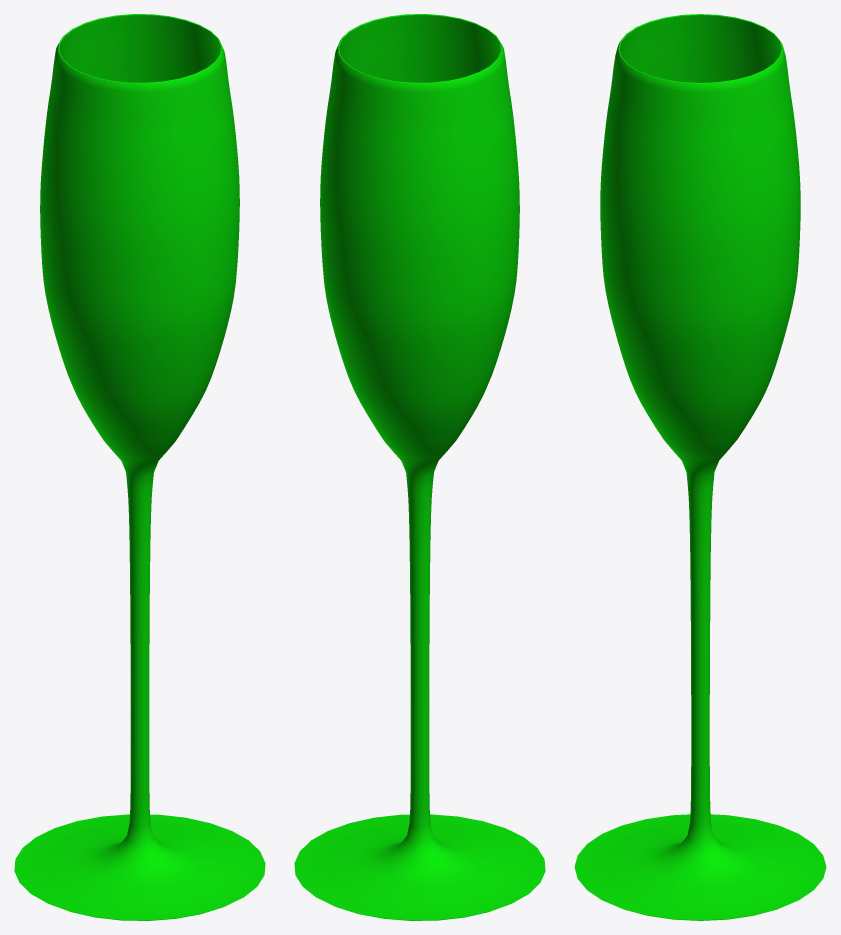
File: Glass6_LOD_0.fbx
3 views of the same model, side by side, from view 1: azimuth 30°, elevation 25°; view 2: azimuth 150°, elevation 25°; view 3: azimuth 270°, elevation 25° (orthographic).
Parts seen in each view (by area): view 1: Glass6_LOD_0; view 2: Glass6_LOD_0; view 3: Glass6_LOD_0.
Part boxes in pixels (bbox=[...]): Glass6_LOD_0: bbox=[14, 14, 265, 920]; Glass6_LOD_0: bbox=[294, 14, 545, 920]; Glass6_LOD_0: bbox=[574, 14, 826, 920].
Size of the model in its own units: 1.42 by 5.11 by 1.42.
